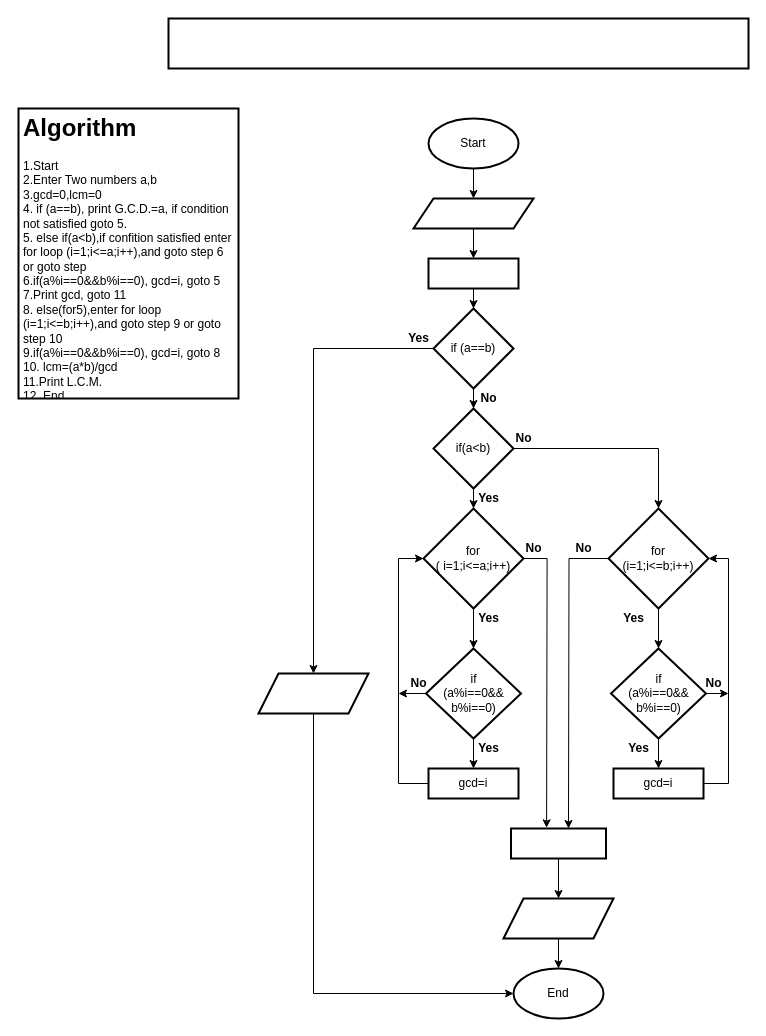
The diagram is 766 pixels wide and 1036 high, and some of its shapes have lost their labels. The shapes that lost their labels are listed below. From the top down, each one's centre as x and y in pixels, then its label:
At point 458,43: "Lowest Common Multiple - LCM".
At point 473,213: "Enter a and b".
At point 473,273: "gcd=0 lcm=0".
At point 313,693: "Print L.C.M.=a".
At point 558,843: "lcm=(a*b)/gcd".
At point 558,918: "Print L.C.M.=lcm".
